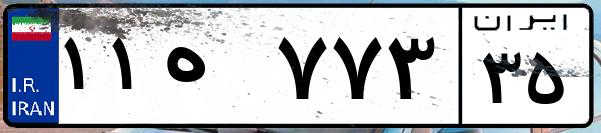1: (57, 26, 110, 100), (110, 28, 158, 98)
3: (385, 28, 445, 110), (475, 38, 525, 113)
5: (525, 38, 570, 115)
7: (270, 28, 330, 110), (330, 28, 385, 110)
ه: (158, 20, 270, 120)
